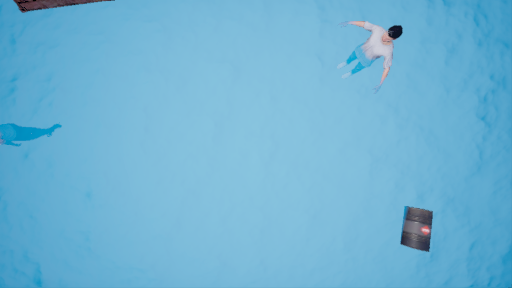person: (336, 18, 412, 86)
